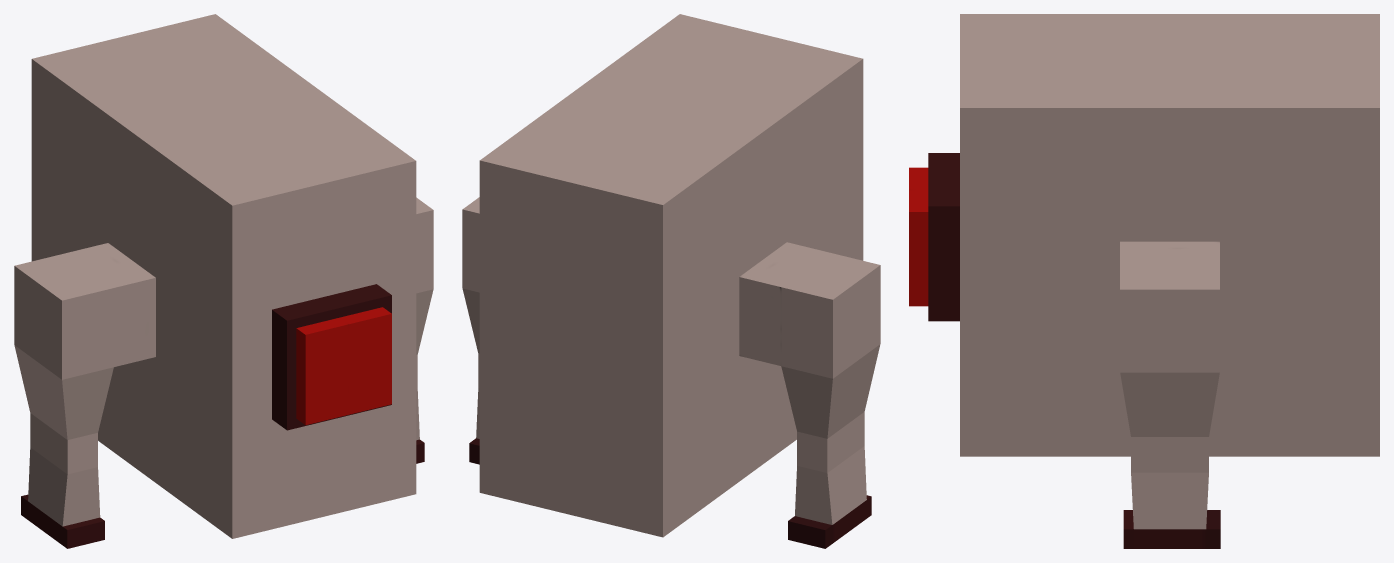
Rendered from Enemy2.fbx.
3 views of the same model, side by side, from view 1: azimuth 30°, elevation 25°; view 2: azimuth 150°, elevation 25°; view 3: azimuth 270°, elevation 25° (orthographic). The views are drawn at different scales.
Visible parts, largest first — view 1: Cube; view 2: Cube; view 3: Cube.
Part boxes in pixels (box(x1,y1,x2,y2)): Cube: box(14, 14, 433, 548); Cube: box(462, 14, 880, 548); Cube: box(909, 14, 1379, 548).
Bounding box in the file's own units: 1.83 × 1.78 × 1.92.
1 material, 1 textured.
